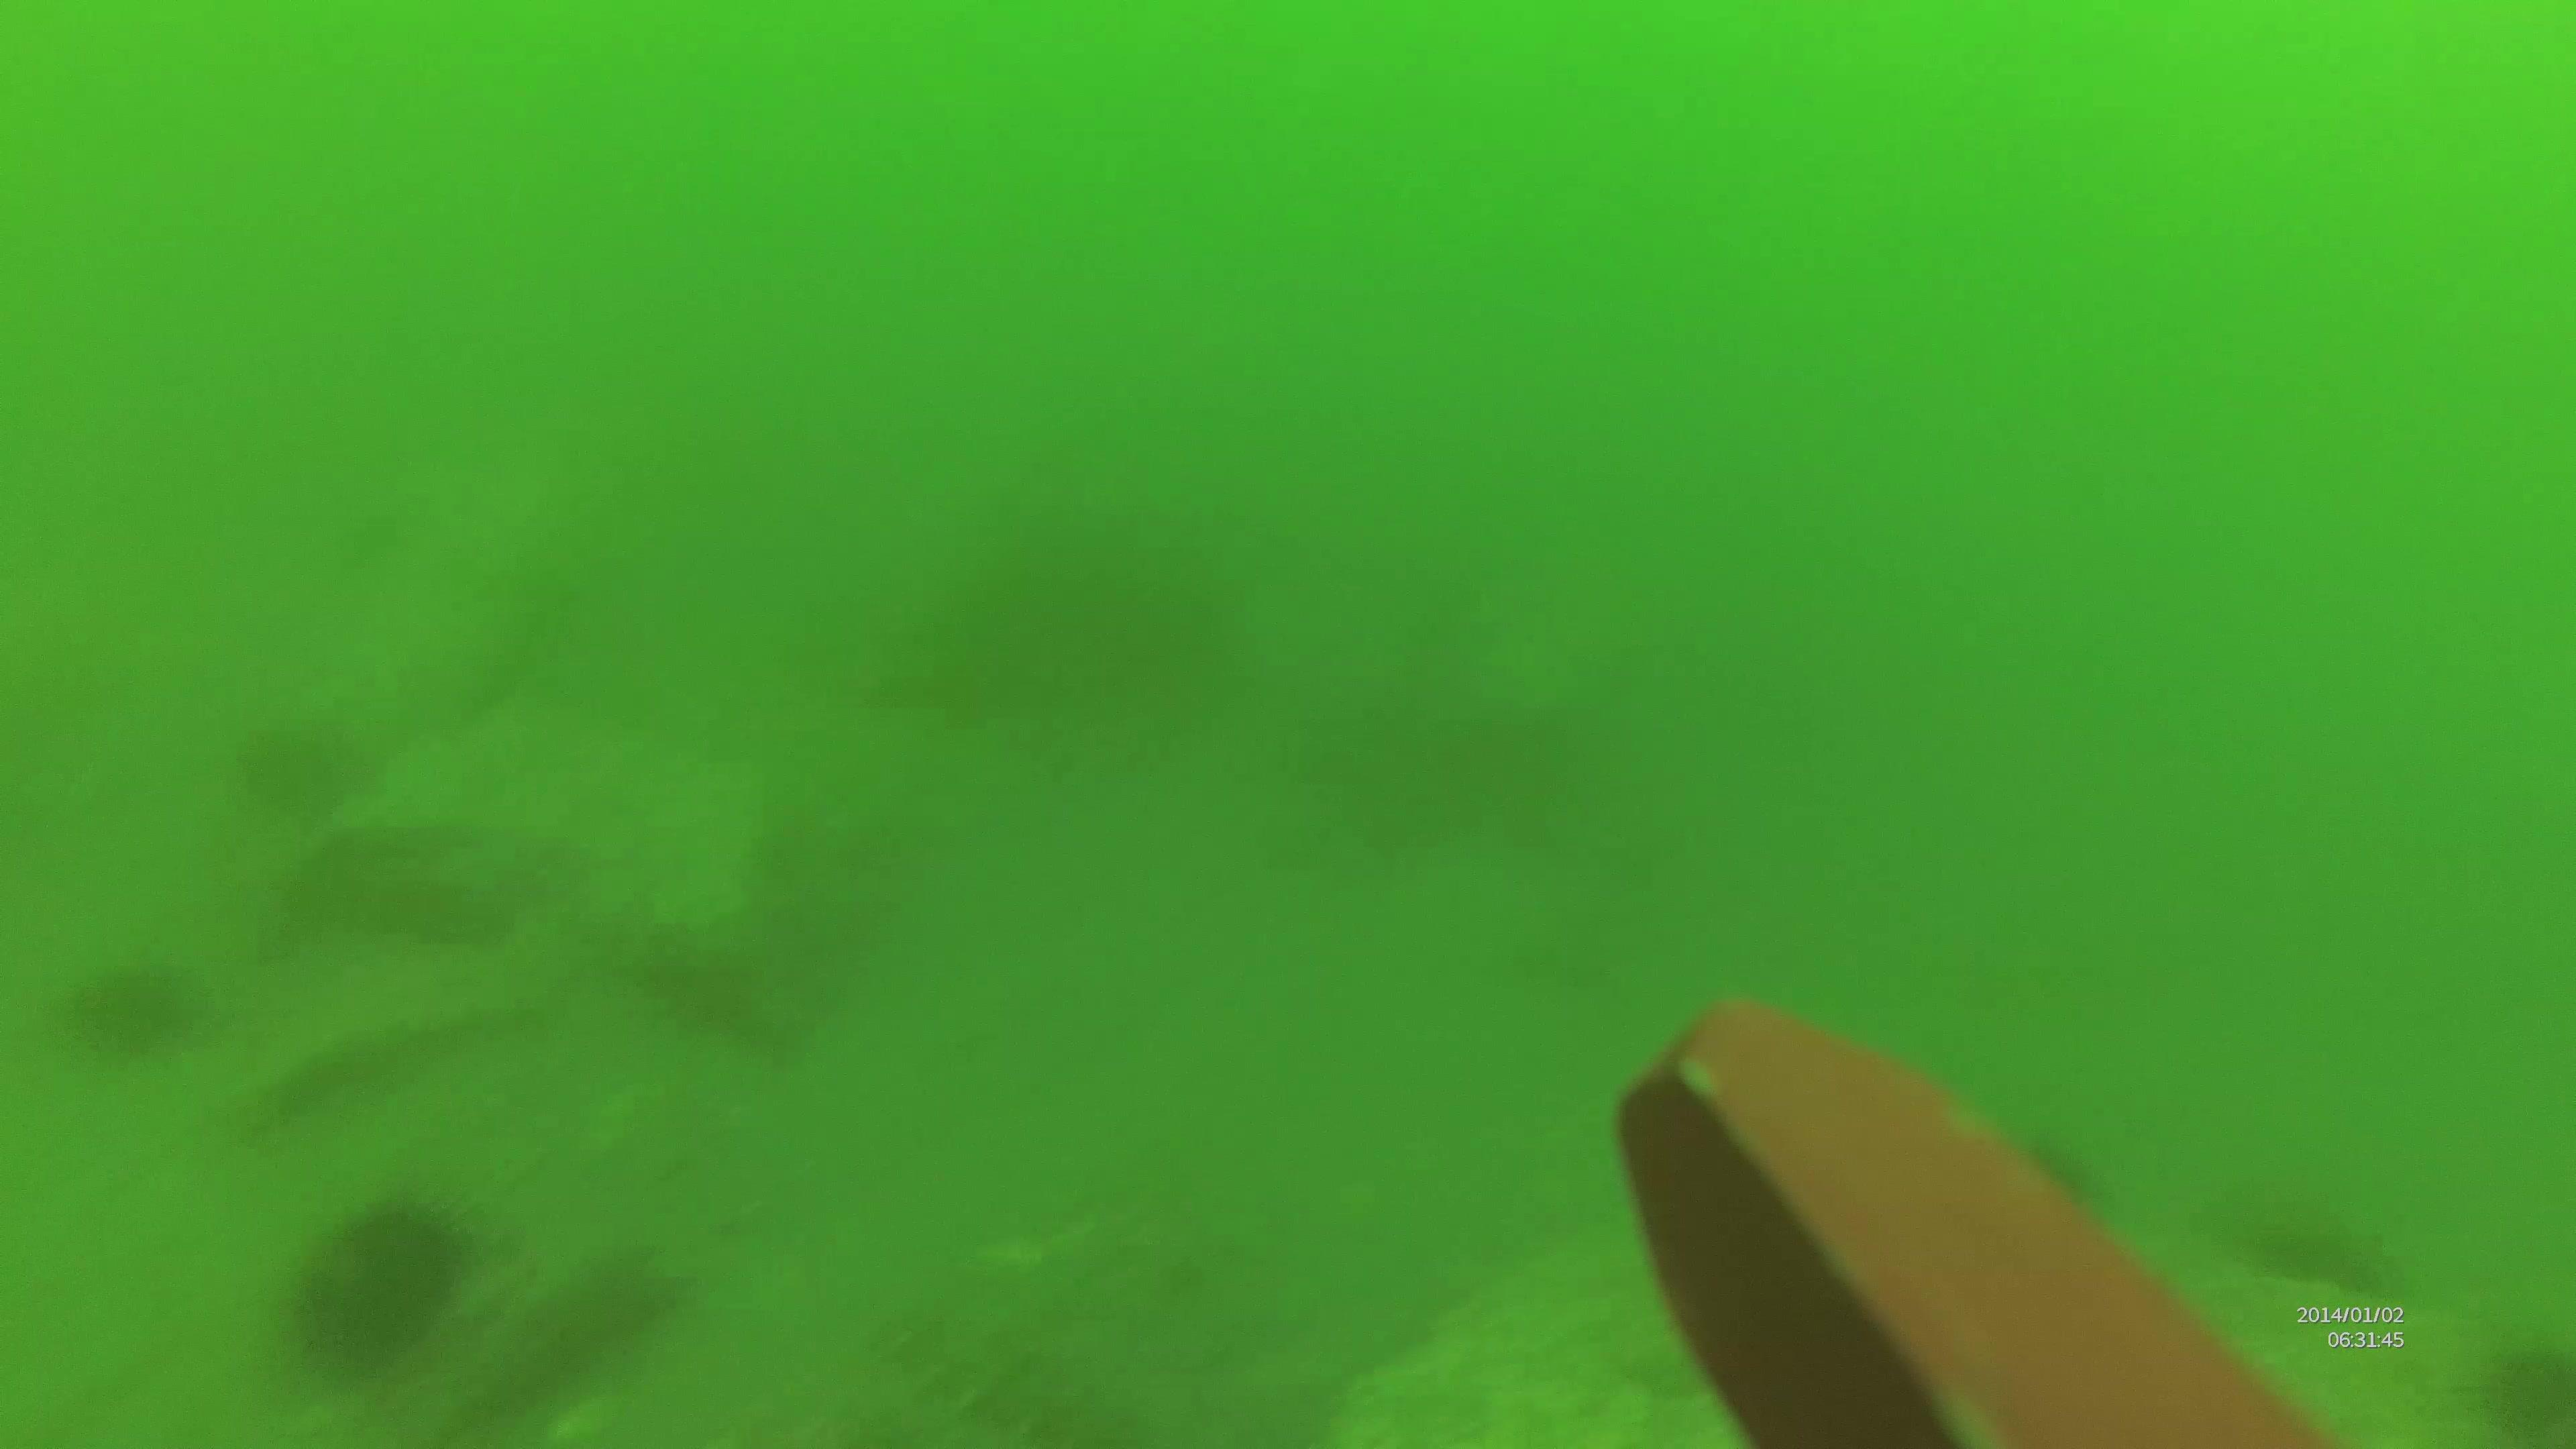echinus: (294, 1212, 474, 1368), (62, 962, 214, 1074)
